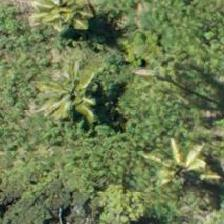coconut_tree: (27, 65, 117, 155), (12, 0, 102, 50), (0, 174, 65, 223)
